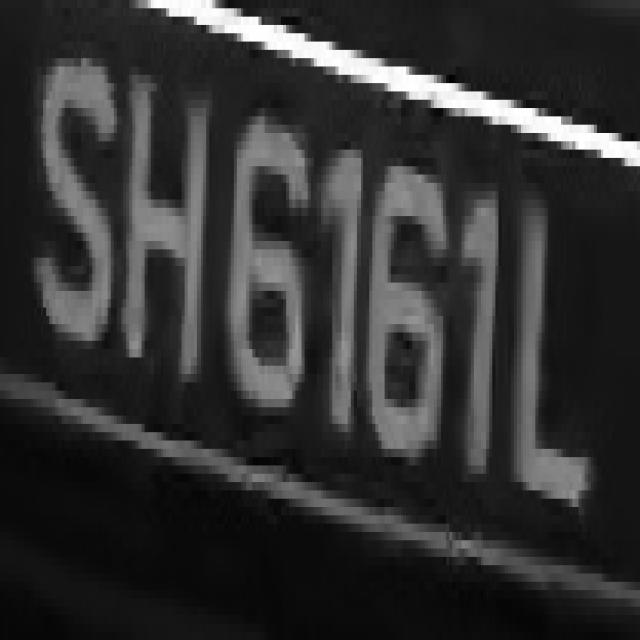1: (317, 108, 363, 466), (456, 150, 496, 498)
6: (360, 133, 452, 465), (224, 108, 310, 441)
H: (114, 58, 215, 432)
L: (508, 174, 597, 532)
S: (34, 25, 117, 374)
